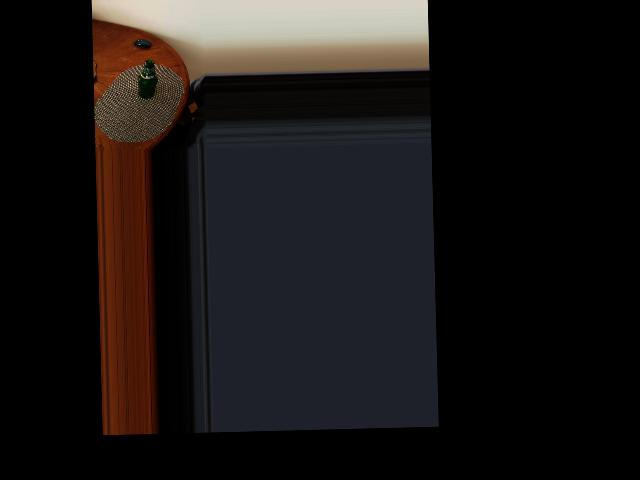beer: (135, 59, 158, 98)
